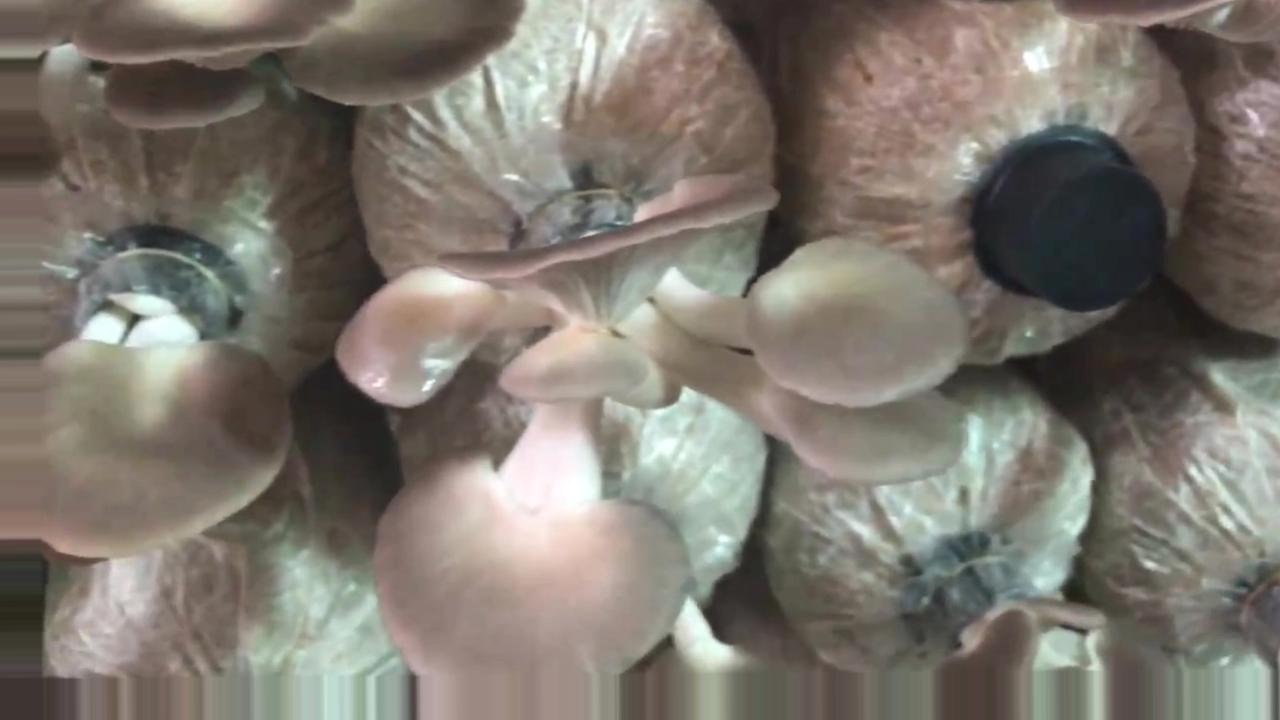nam: (323, 168, 978, 675), (38, 228, 302, 567), (1, 1, 528, 135)
